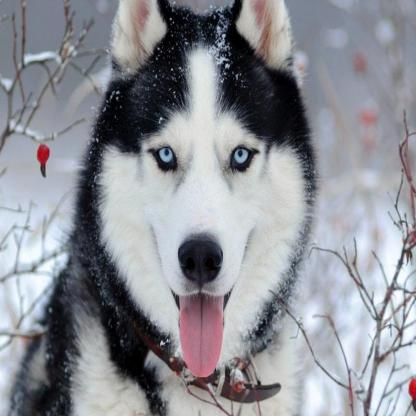dog: (9, 1, 317, 416)
